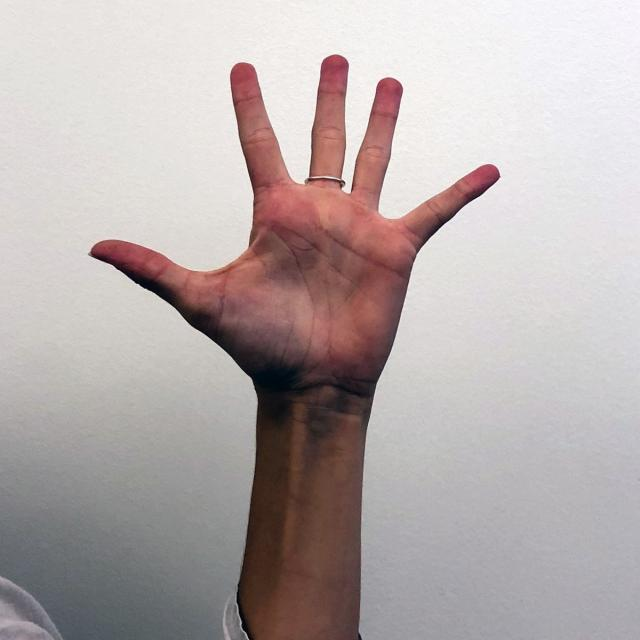no-gloves: (91, 55, 502, 422)
